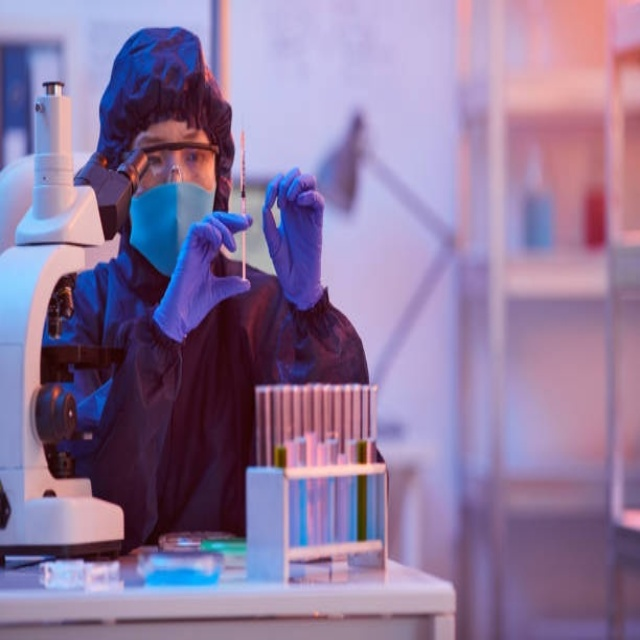Gafas: (119, 140, 221, 195)
Guantes: (151, 207, 252, 340), (265, 160, 323, 306)
Mascara: (126, 178, 219, 277)
